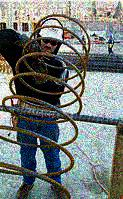helmet: (39, 18, 64, 51)
